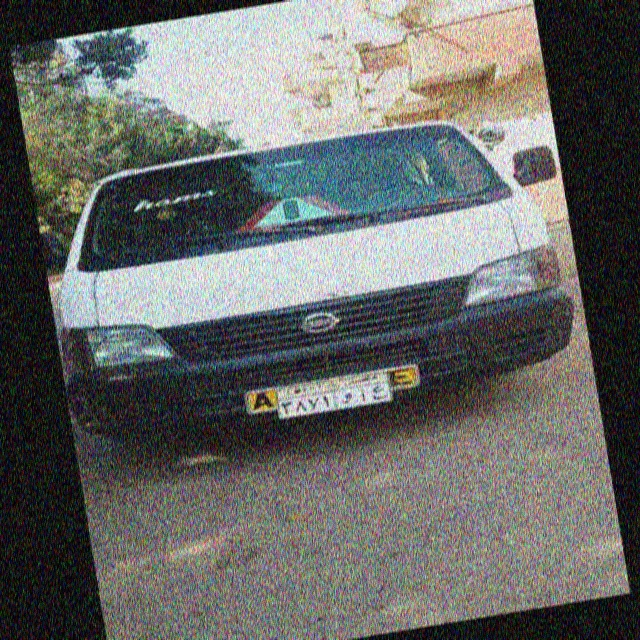License Plate: (274, 371, 393, 420)
